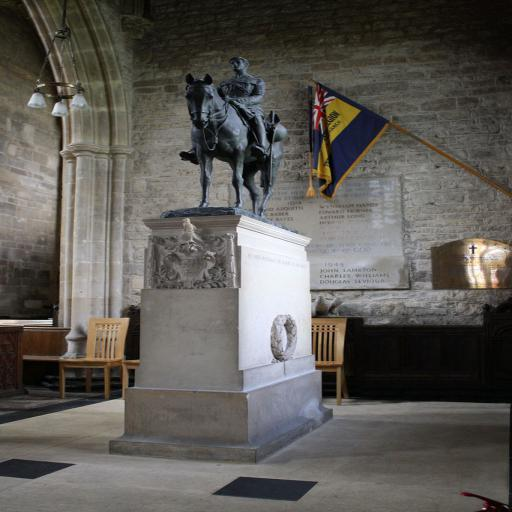horse: (184, 70, 288, 208)
